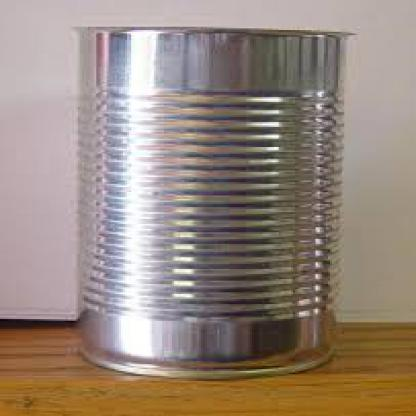METAL: (72, 25, 352, 378)
